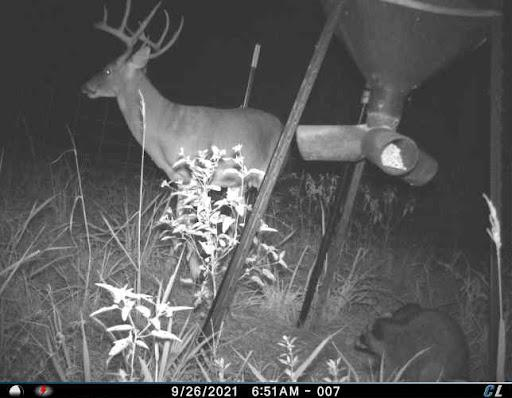Deer: (68, 0, 285, 281)
